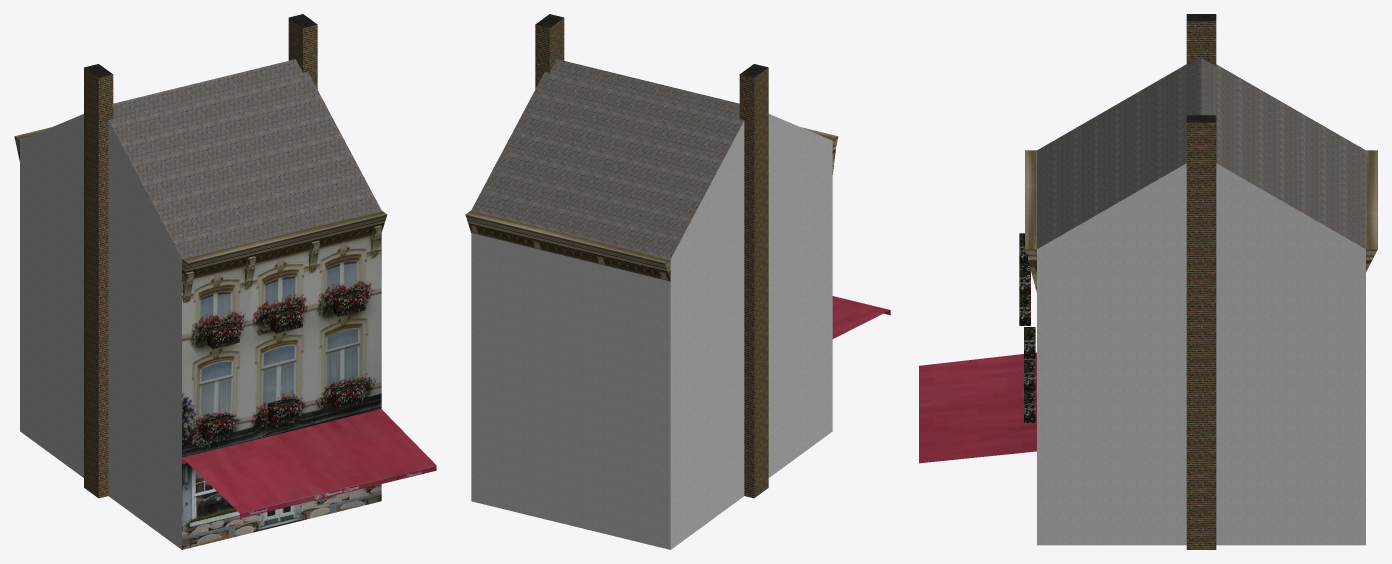
File: eu_cafe_house.glb
3 renders of one model, left to right at view 1: azimuth 30°, elevation 25°; view 2: azimuth 150°, elevation 25°; view 3: azimuth 270°, elevation 25°, orthographic.
Parts seen in each view (by area): view 1: eu_06; view 2: eu_06; view 3: eu_06.
Part boxes in pixels (bbox=[...]): eu_06: bbox=[14, 14, 436, 549]; eu_06: bbox=[465, 14, 890, 549]; eu_06: bbox=[919, 14, 1377, 549].
Bounding box in the file's own units: 7.94 × 14.55 × 14.16.
10 materials, 10 textured.
